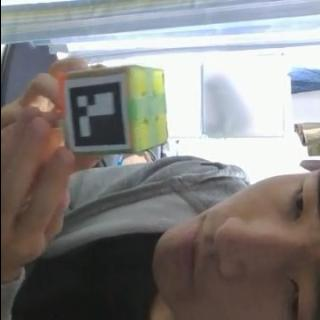armor: (64, 74, 128, 150)
robot: (61, 66, 168, 156)
